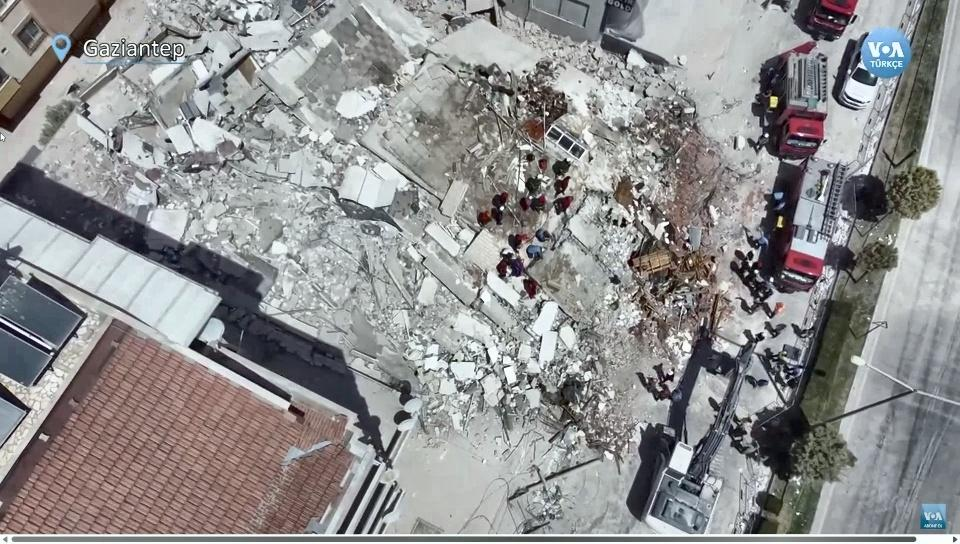kapali: (521, 78, 882, 536)
